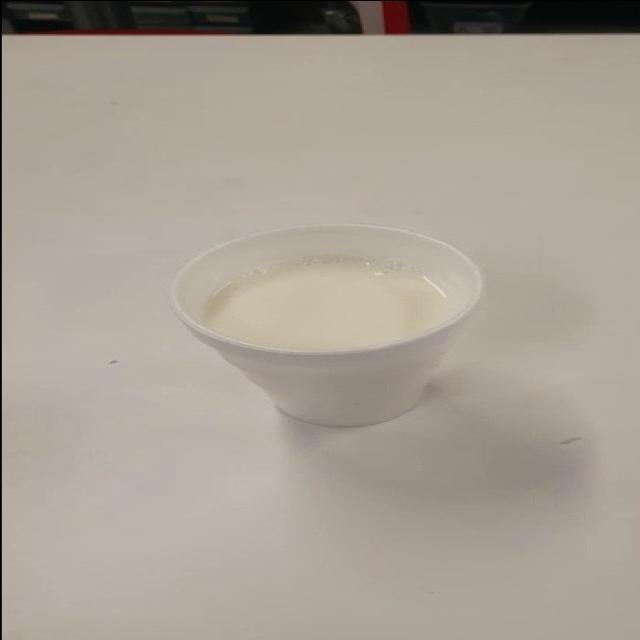Milk: (154, 199, 529, 446)
